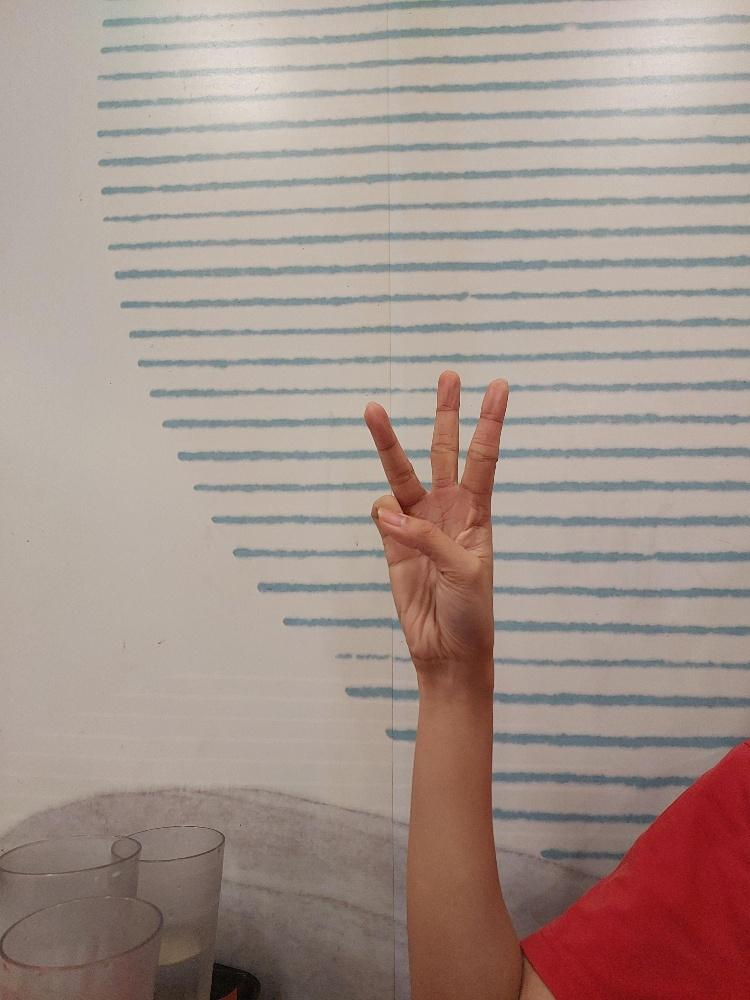w: (361, 366, 511, 666)
